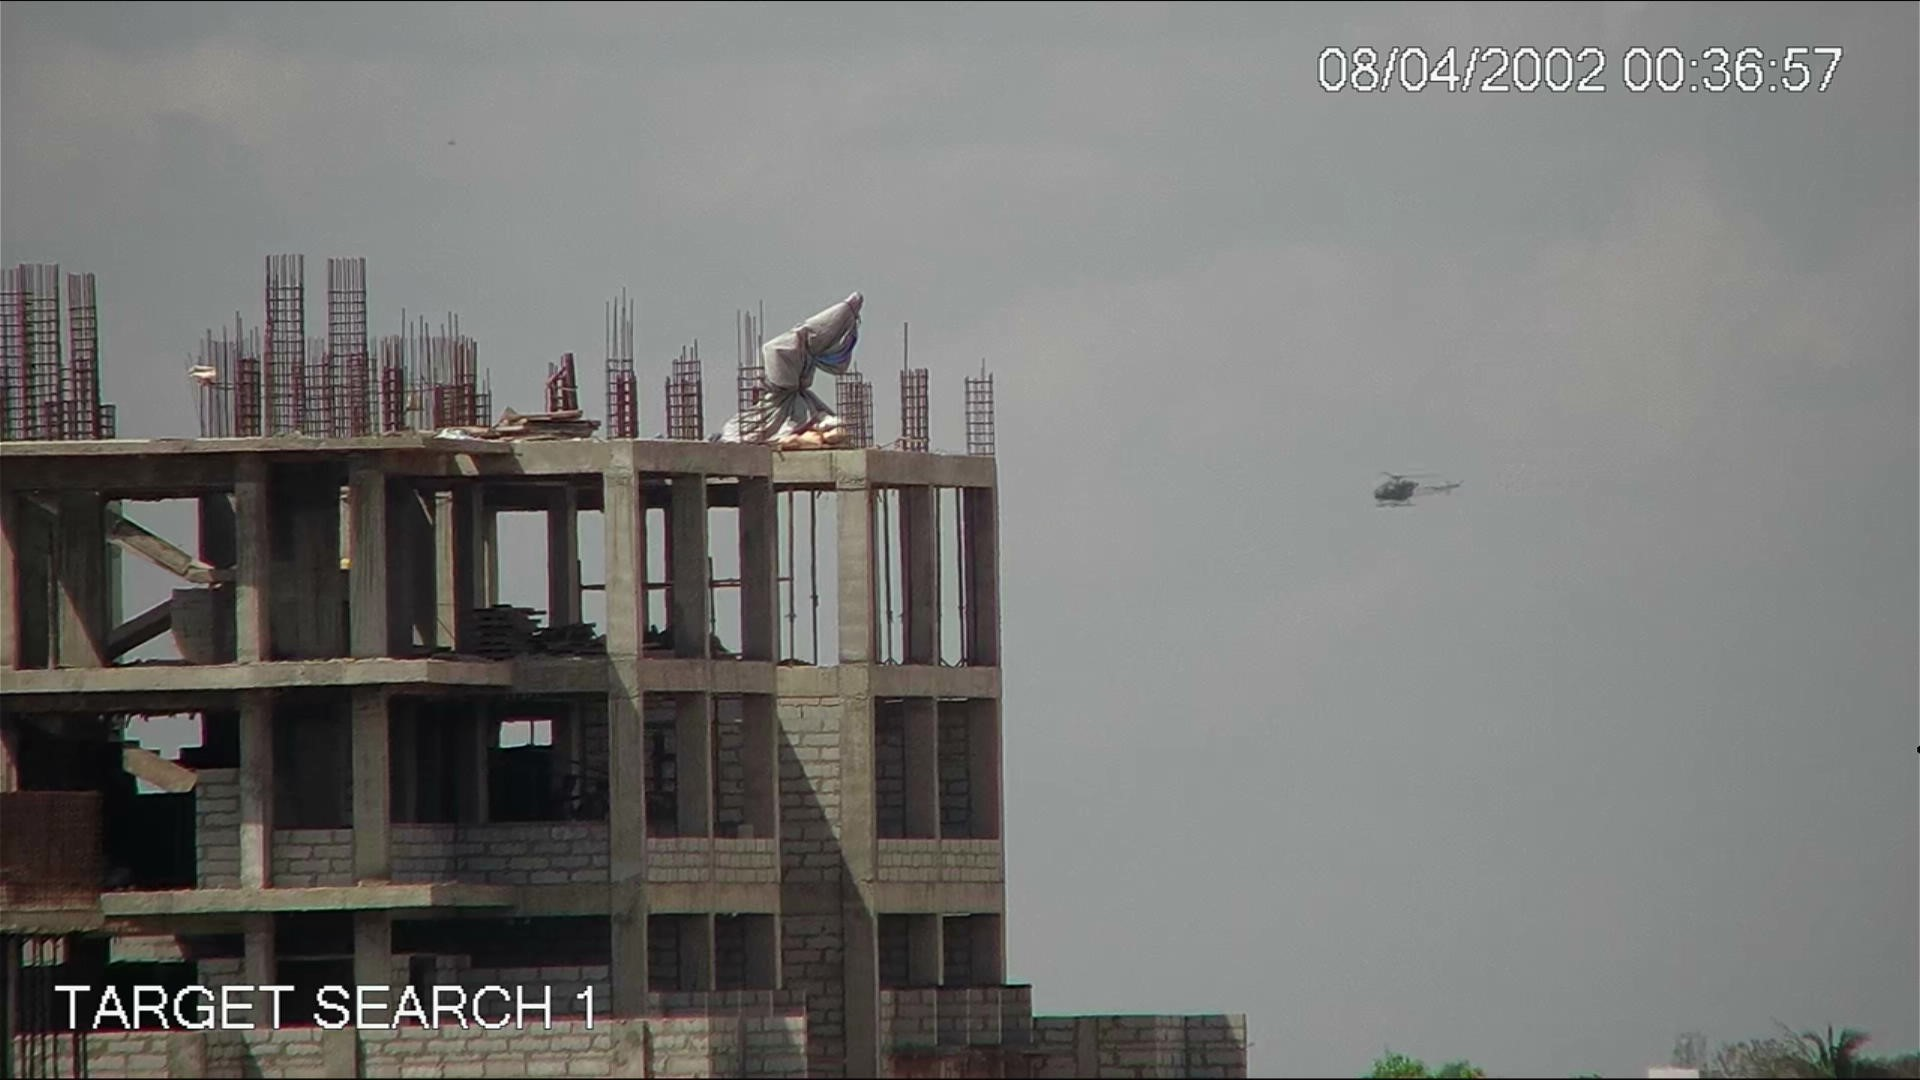SU_30: (1367, 469, 1472, 510)
